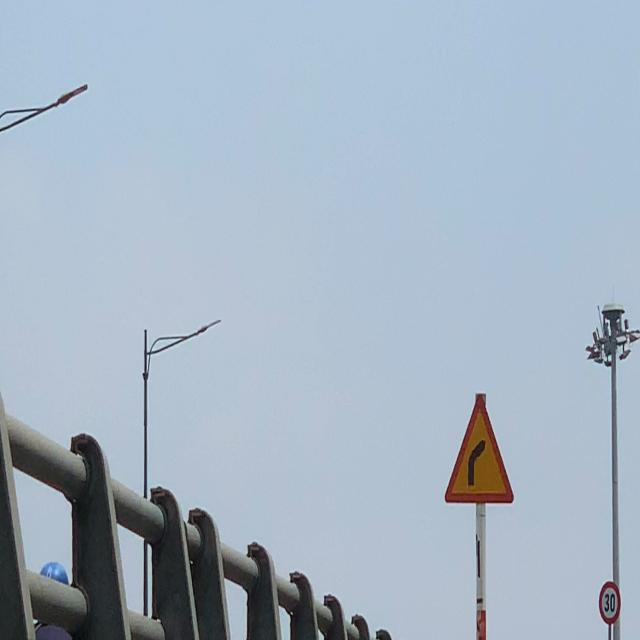Nguy hiem: (442, 391, 516, 505)
Toc do toi da: (599, 581, 621, 625)
